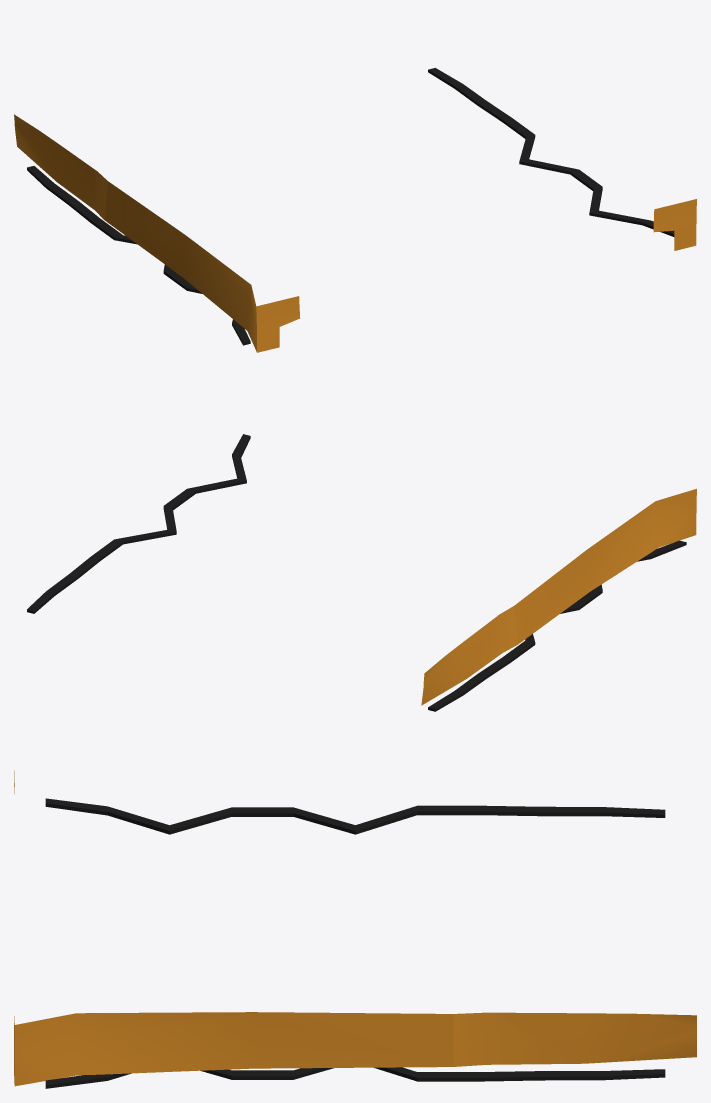
File: protoHatch_sideSkirts_hayate.glb
The picture shows the model from 3 angles, top to bottom: view 1: azimuth 30°, elevation 25°; view 2: azimuth 150°, elevation 25°; view 3: azimuth 270°, elevation 25°; orthographic projection. The views are drawn at different scales.
Parts seen in each view (by area): view 1: sideSkirts_hayate; view 2: sideSkirts_hayate; view 3: sideSkirts_hayate.
Part boxes in pixels (x1,y1,x2,y2): sideSkirts_hayate: (14, 68, 696, 352); sideSkirts_hayate: (27, 434, 696, 711); sideSkirts_hayate: (14, 770, 696, 1088).
Size of the model in its own units: 1.71 by 0.1747 by 1.72.
